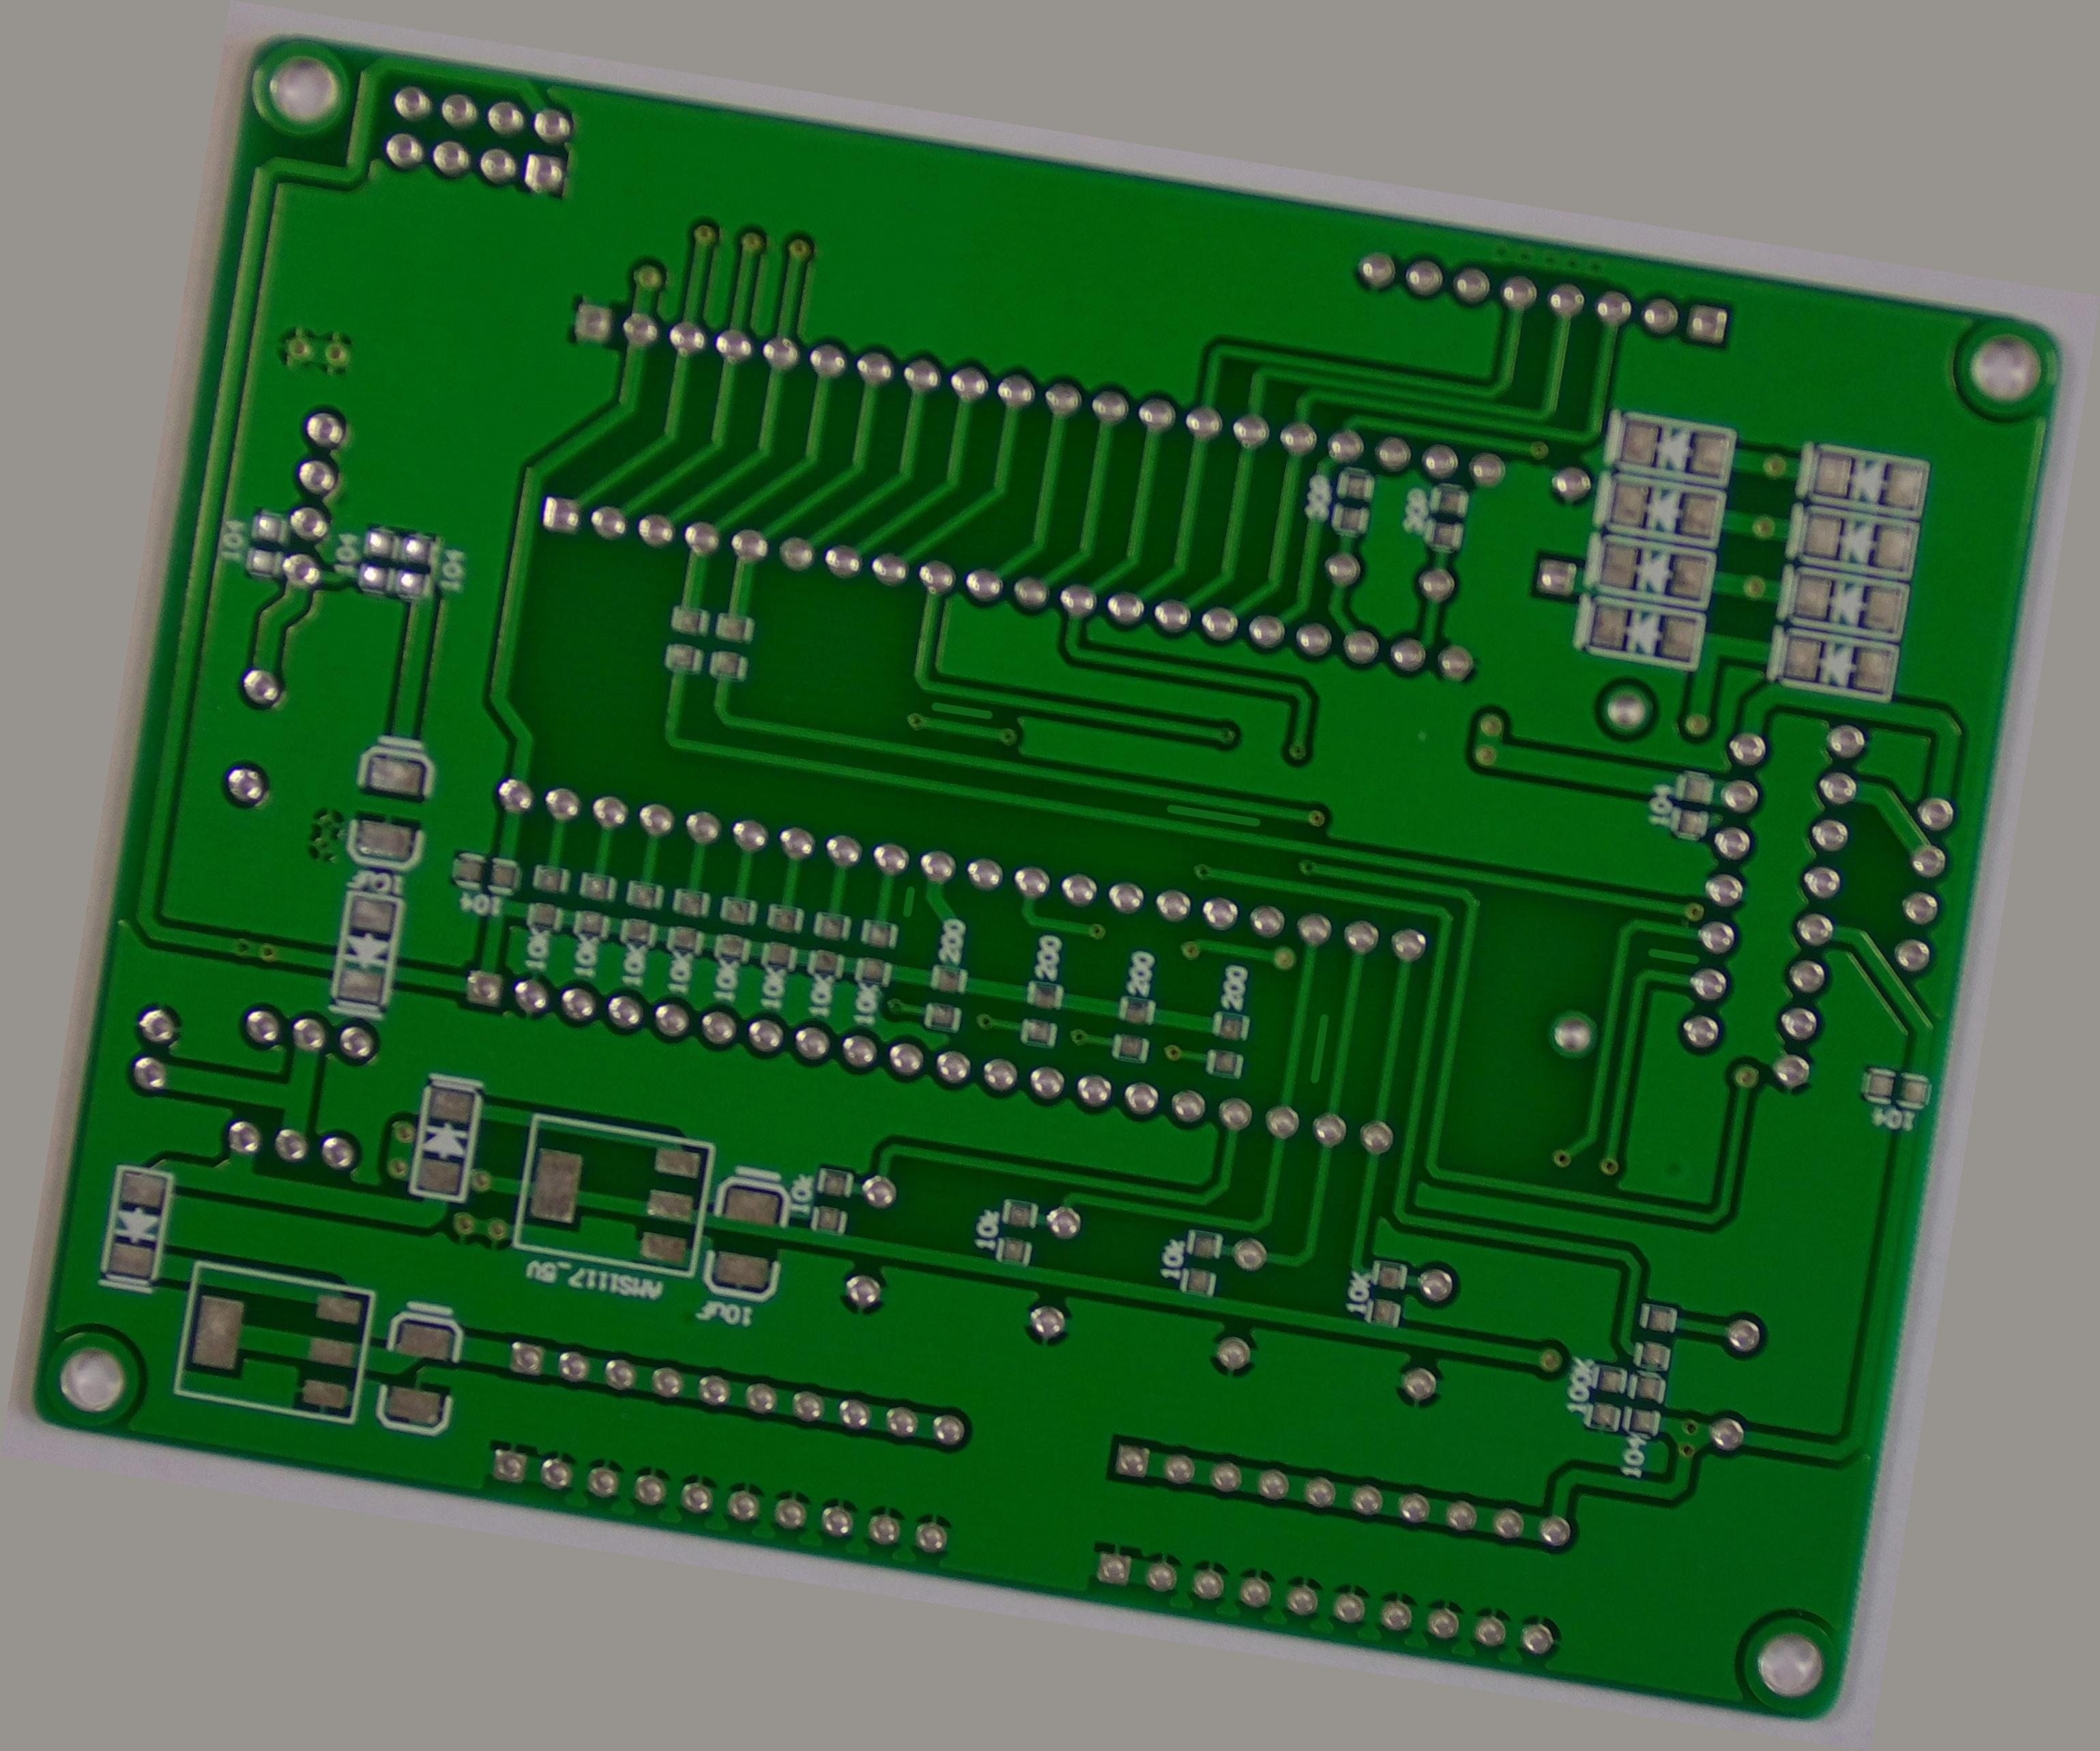spurious_copper: (1151, 746, 1280, 806), (876, 670, 975, 724), (1350, 975, 1399, 1076), (1706, 832, 1788, 881), (876, 902, 919, 956)
